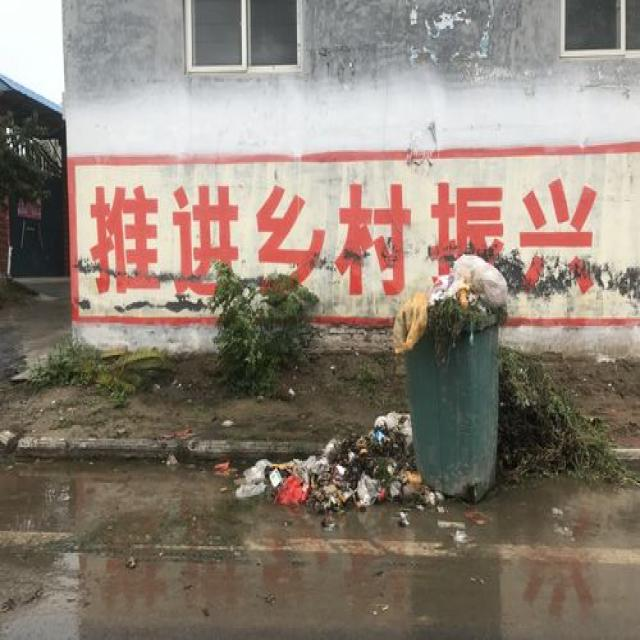garbage: (212, 411, 466, 543)
overflow: (390, 253, 507, 502)
